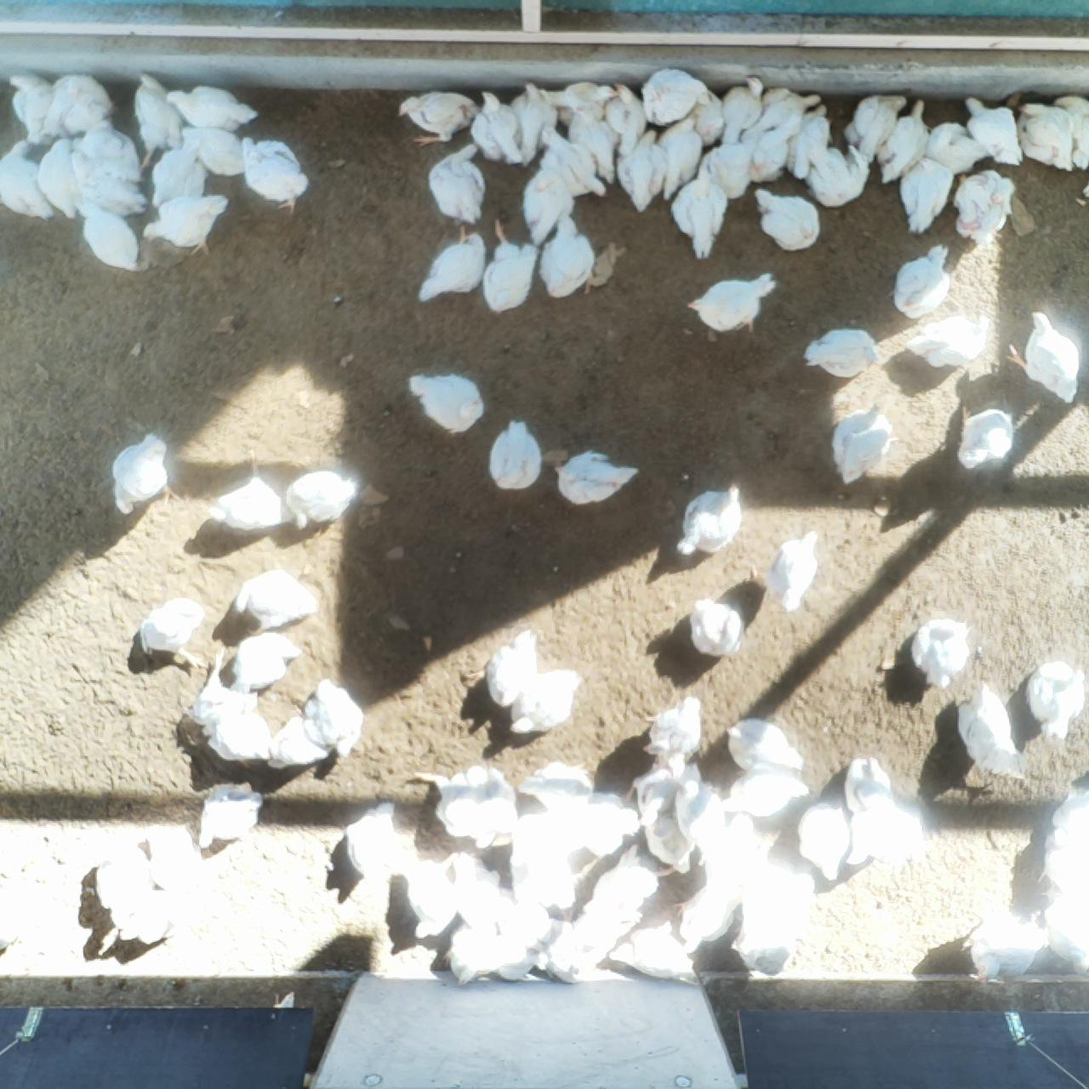chicken: (182, 645, 276, 766), (578, 841, 686, 930), (418, 765, 518, 852), (66, 116, 149, 217), (502, 808, 579, 915), (204, 449, 298, 536), (959, 680, 1032, 785), (1002, 311, 1083, 404), (443, 920, 547, 992), (460, 627, 542, 716), (604, 920, 701, 991), (106, 430, 185, 514), (531, 121, 608, 205), (234, 565, 321, 639), (66, 191, 143, 274), (549, 788, 640, 858), (233, 134, 311, 214), (965, 907, 1047, 983), (129, 68, 188, 173), (497, 668, 588, 736), (685, 270, 777, 337), (843, 802, 928, 872), (142, 191, 229, 259), (832, 398, 898, 486), (416, 226, 488, 305), (706, 810, 777, 889), (136, 589, 204, 671), (669, 165, 728, 259), (482, 216, 538, 315), (398, 853, 461, 941), (224, 627, 302, 698), (625, 753, 696, 831), (90, 841, 155, 926), (516, 150, 576, 242), (723, 714, 806, 780), (674, 483, 745, 560), (303, 678, 367, 763), (672, 874, 739, 955), (0, 137, 60, 227), (1026, 659, 1089, 743), (872, 97, 932, 184), (671, 777, 729, 867), (141, 820, 207, 899), (425, 141, 487, 225), (538, 212, 597, 300), (194, 779, 265, 852), (407, 369, 485, 435), (39, 70, 118, 135), (794, 796, 853, 883), (165, 81, 260, 135), (739, 82, 821, 144), (718, 764, 807, 821), (282, 467, 360, 532), (480, 889, 558, 954), (903, 311, 986, 372), (952, 168, 1015, 248), (343, 800, 403, 884), (630, 806, 697, 881), (442, 851, 504, 932), (798, 139, 870, 208), (766, 529, 825, 613), (959, 93, 1025, 168), (554, 449, 639, 507), (4, 63, 64, 145), (35, 133, 89, 224), (614, 130, 671, 215), (92, 901, 181, 955), (844, 92, 907, 168), (913, 615, 975, 692), (398, 88, 480, 146), (505, 79, 559, 167), (736, 870, 818, 927), (752, 184, 820, 252), (641, 692, 706, 763), (896, 155, 954, 234), (147, 143, 212, 212), (639, 65, 712, 126), (1016, 99, 1077, 172), (653, 117, 706, 201), (541, 913, 603, 984), (180, 120, 253, 180), (266, 711, 337, 772), (892, 244, 951, 317), (517, 762, 596, 816), (471, 86, 523, 168), (730, 917, 802, 976), (842, 753, 898, 827), (694, 138, 754, 207), (804, 326, 879, 381), (922, 120, 992, 178), (688, 592, 746, 662), (535, 79, 620, 126), (487, 419, 543, 490), (780, 102, 833, 177), (1043, 884, 1089, 970), (957, 403, 1015, 471), (602, 79, 653, 154), (1035, 832, 1089, 899), (717, 73, 767, 145), (729, 126, 787, 185), (682, 85, 728, 149), (1053, 94, 1089, 173), (1051, 784, 1089, 853)
